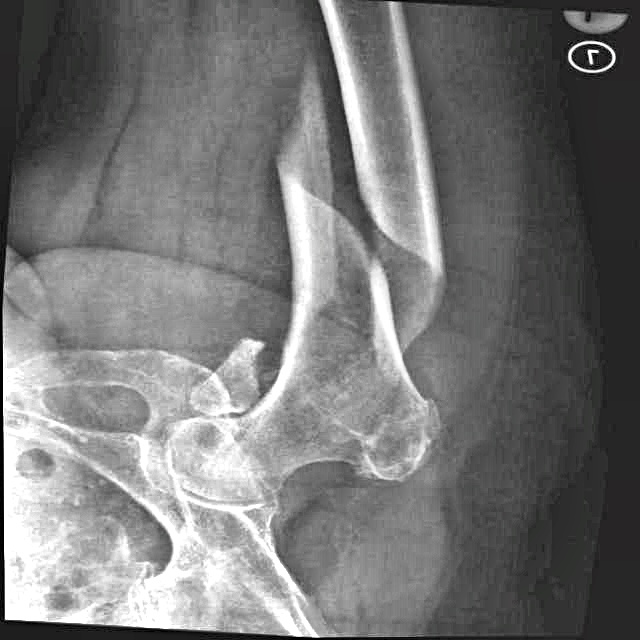Spiral: (247, 67, 498, 372)
